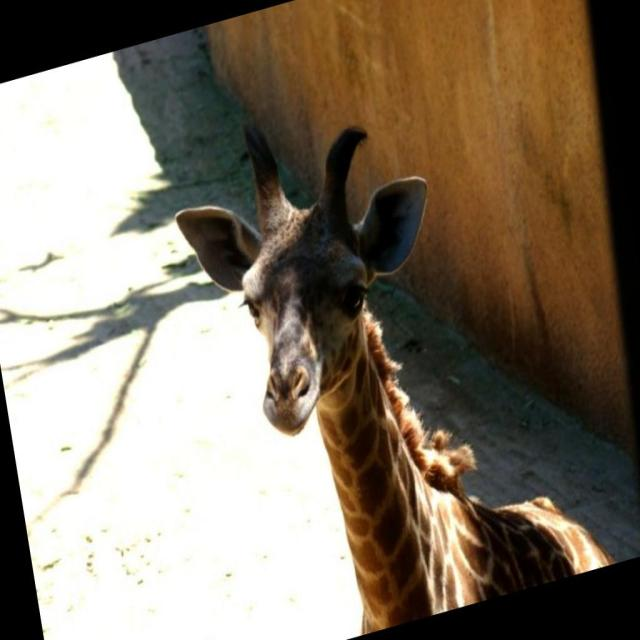Giraffe: (163, 97, 626, 620)
